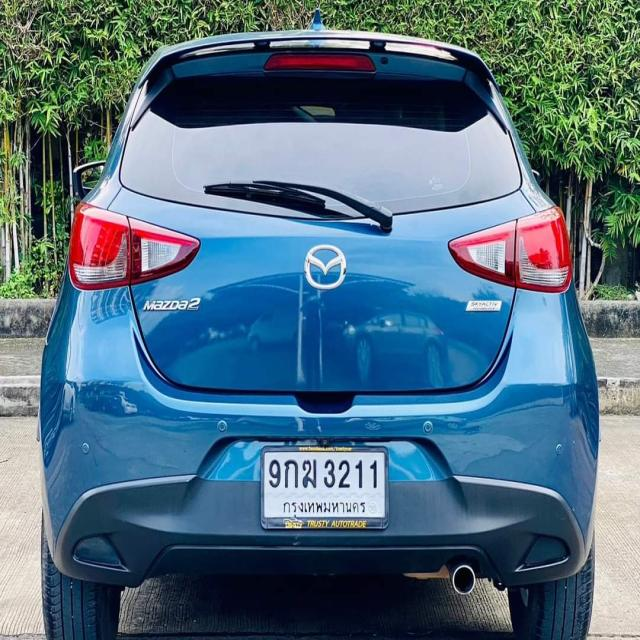license_plate: (261, 446, 392, 530)
